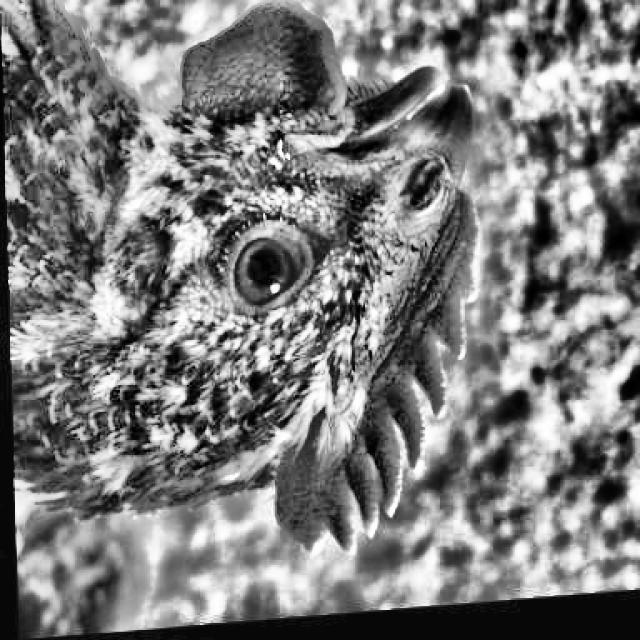Healthy: (216, 204, 342, 334)
